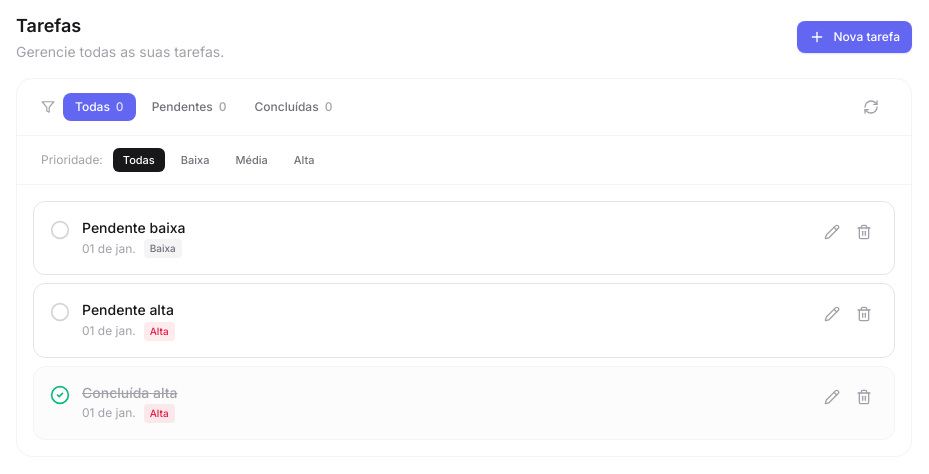
Test case: TasksPage — combinação de statusFilter + priorityFilter › filtra só por status quando priority está em 'Todas'
This screenshot has width=929, height=474.
Click the button "Pendentes0".
click(189, 107)  # box [140, 93, 238, 121]
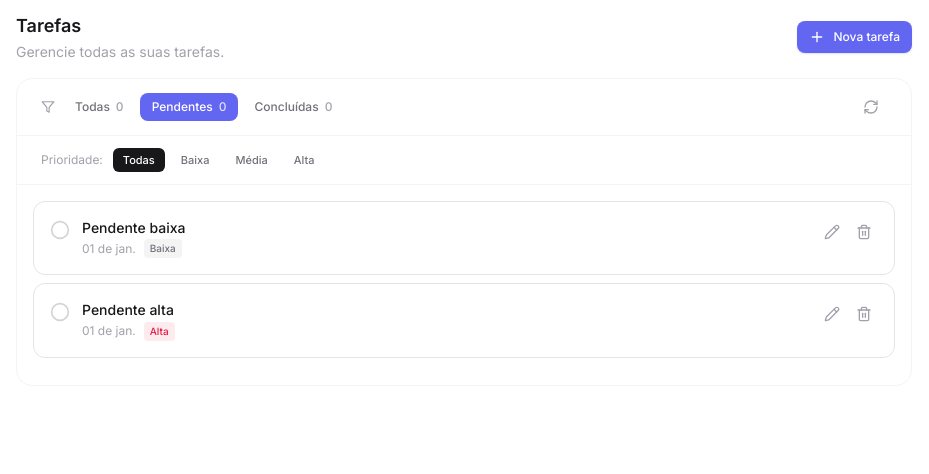
Check: the text "Pendente baixa" is shown, box [82, 219, 185, 236]
Check: the text "Concluída alta" is gone
